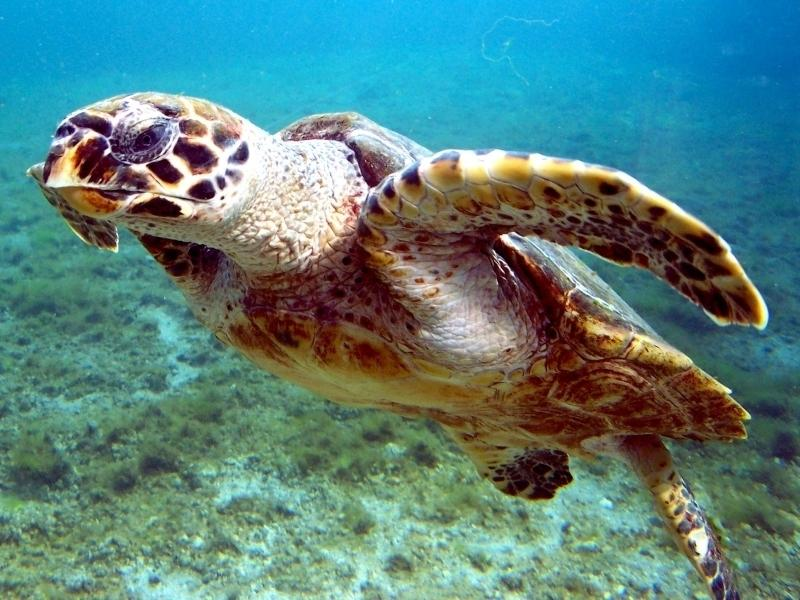turtle: (34, 71, 276, 270)
